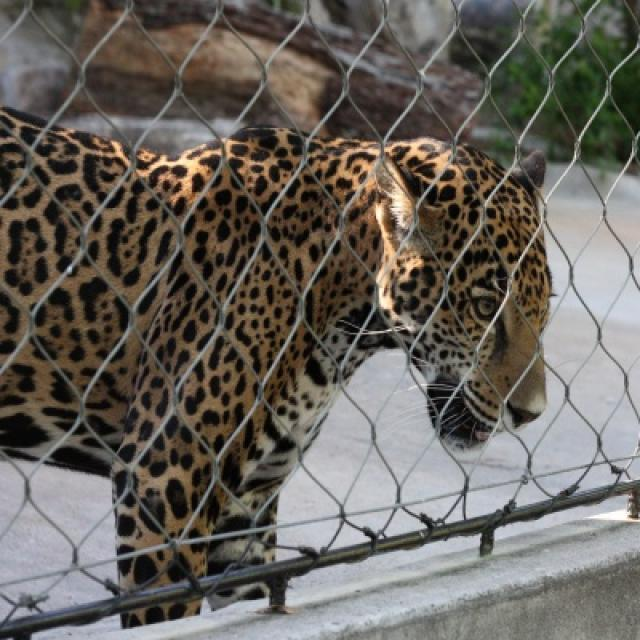Jaguar: (2, 110, 552, 633)
